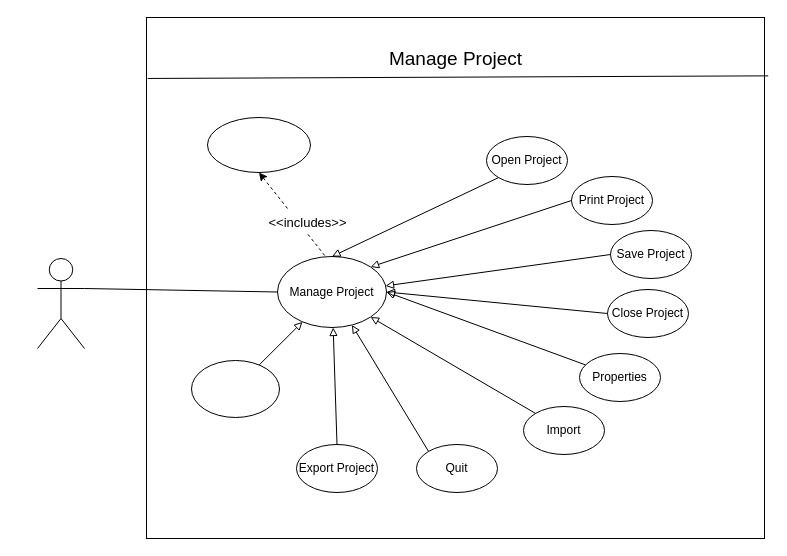
This 787x556 diagram has some shape labels left out. The centre of each missing label's shape, as x and y in pixels:
New Project: pixel 235 389
Open Project Tab: pixel 258 144
Project Manager: pixel 60 303
